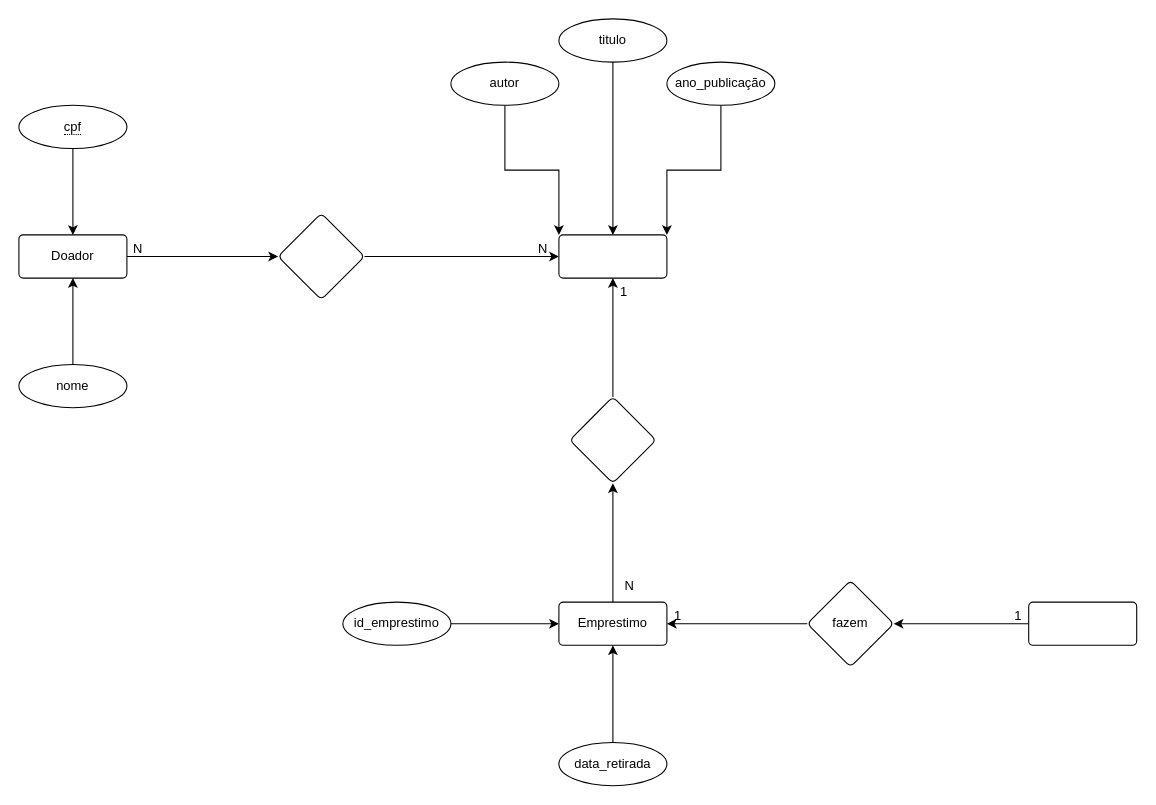
This 1156x805 diagram has some shape labels left out. The centre of each missing label's shape, as x and y in pixels:
"Doa" goes at point (320, 256).
"Empresta" goes at point (612, 439).
"Leitores" goes at point (1082, 623).
"Livro" goes at point (612, 256).
